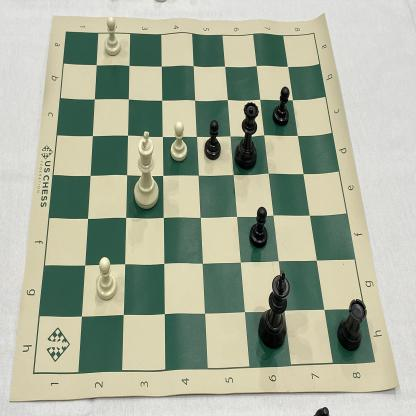black-king: (256, 267, 292, 355)
black-pawn: (245, 201, 271, 253), (269, 82, 293, 130), (202, 118, 223, 164)
black-queen: (231, 98, 260, 175)
black-rook: (333, 293, 368, 355)
white-king: (129, 129, 163, 212)
white-pawn: (91, 253, 119, 302), (99, 14, 125, 59), (166, 117, 189, 165)
